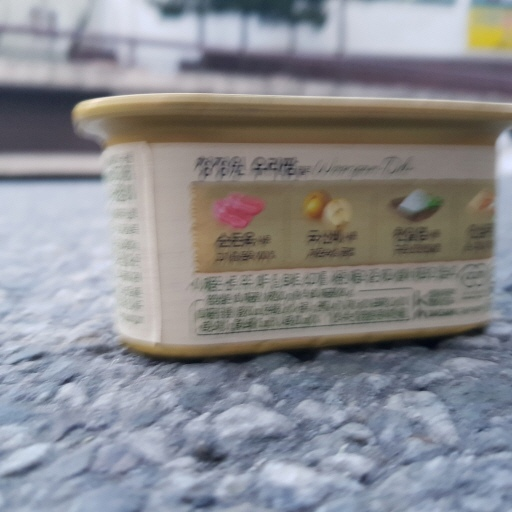Metal_2: (70, 88, 512, 353)
